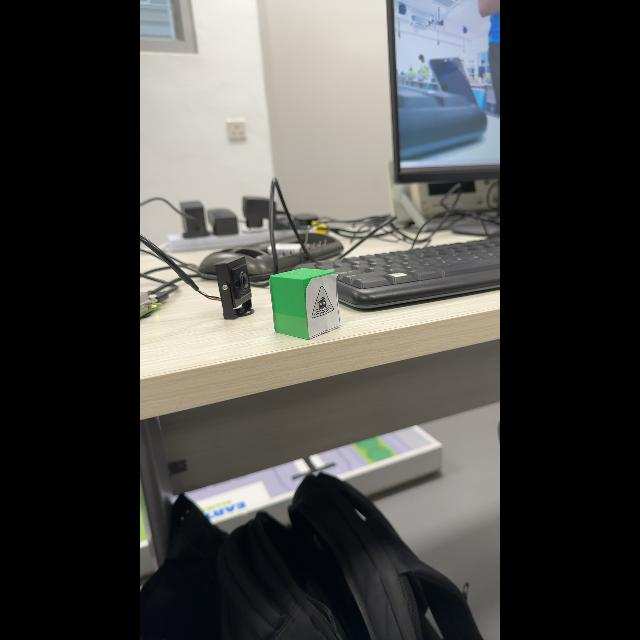Tsunami: (312, 286, 334, 319)
